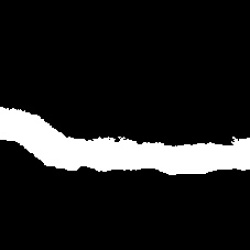crack: (3, 106, 248, 177)
